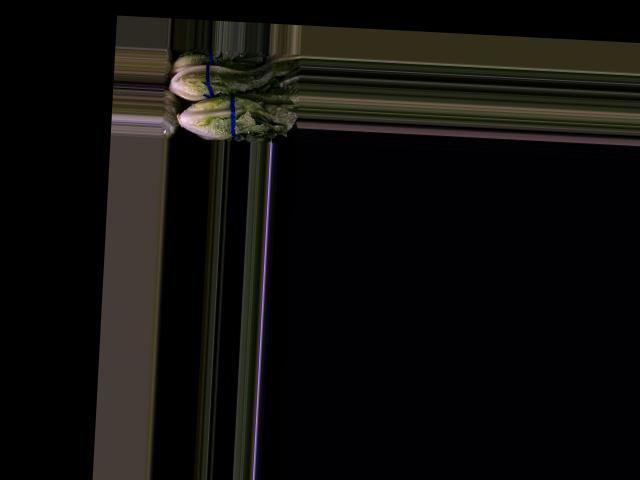lettuce: (167, 54, 277, 105)
